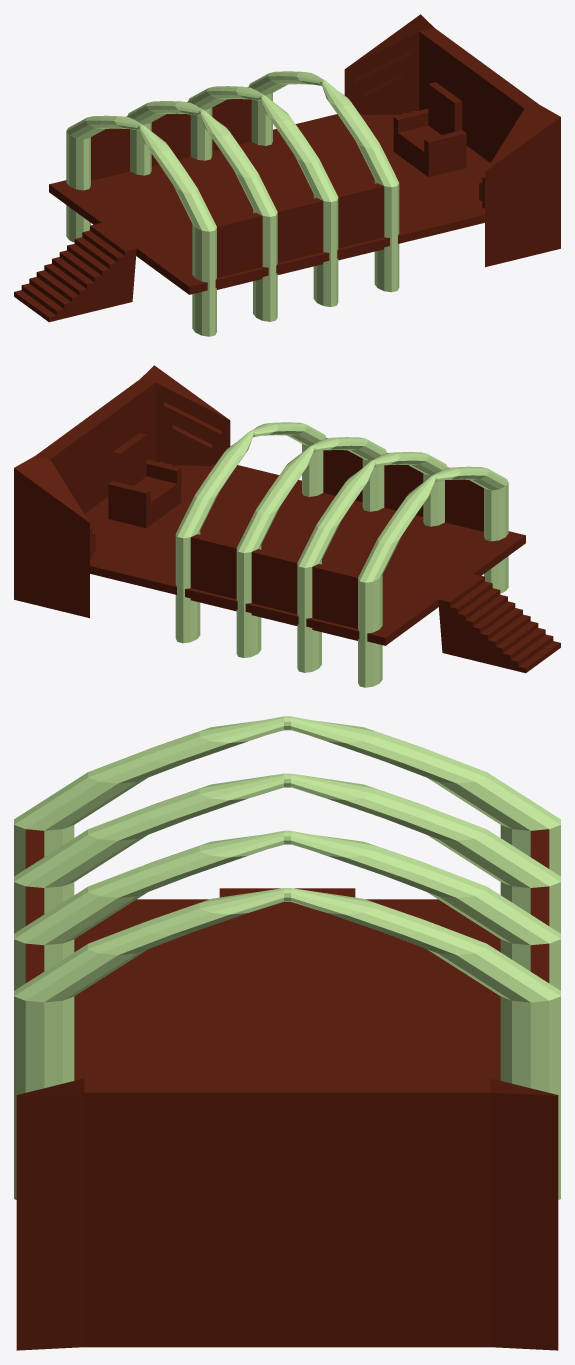
The model's file is Temple.FBX.
3 views of the same model, one above another, from view 1: azimuth 30°, elevation 25°; view 2: azimuth 150°, elevation 25°; view 3: azimuth 270°, elevation 25° (orthographic). The views are drawn at different scales.
Visible parts, largest first — view 1: Temple; view 2: Temple; view 3: Temple.
Boxes of the visible parts, box(x1,y1,x2,y2) form: Temple: box(14, 14, 560, 336); Temple: box(14, 365, 560, 687); Temple: box(14, 716, 560, 1350).
Size of the model in its own units: 30.25 by 10.03 by 16.17.
